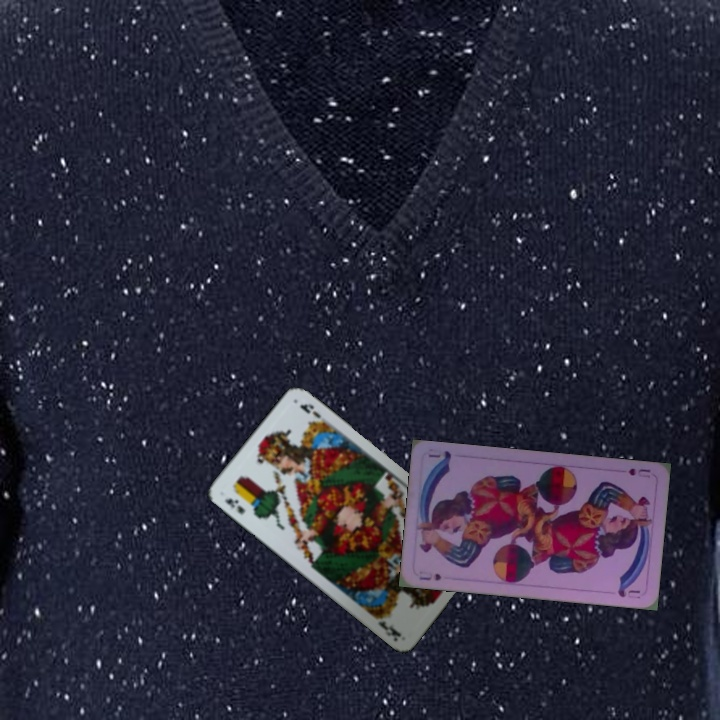EK: (220, 494, 248, 517)
SU: (415, 568, 444, 583), (624, 464, 653, 478)
